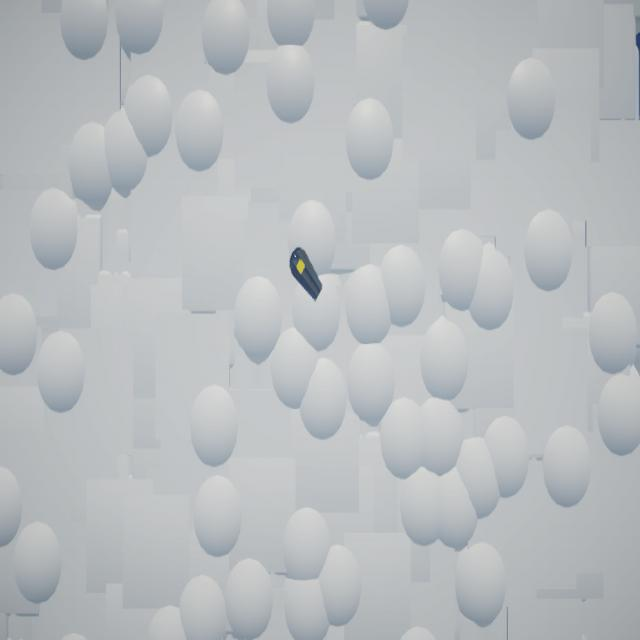handle_folk: (291, 249, 324, 303)
